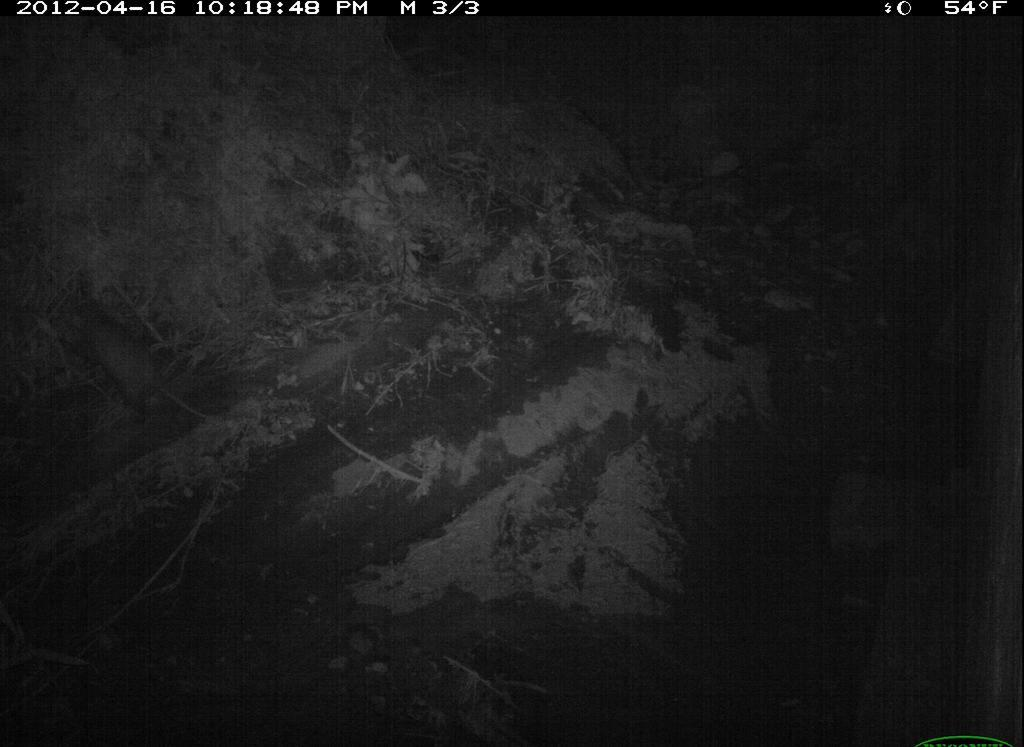opossum: (53, 292, 223, 429)
